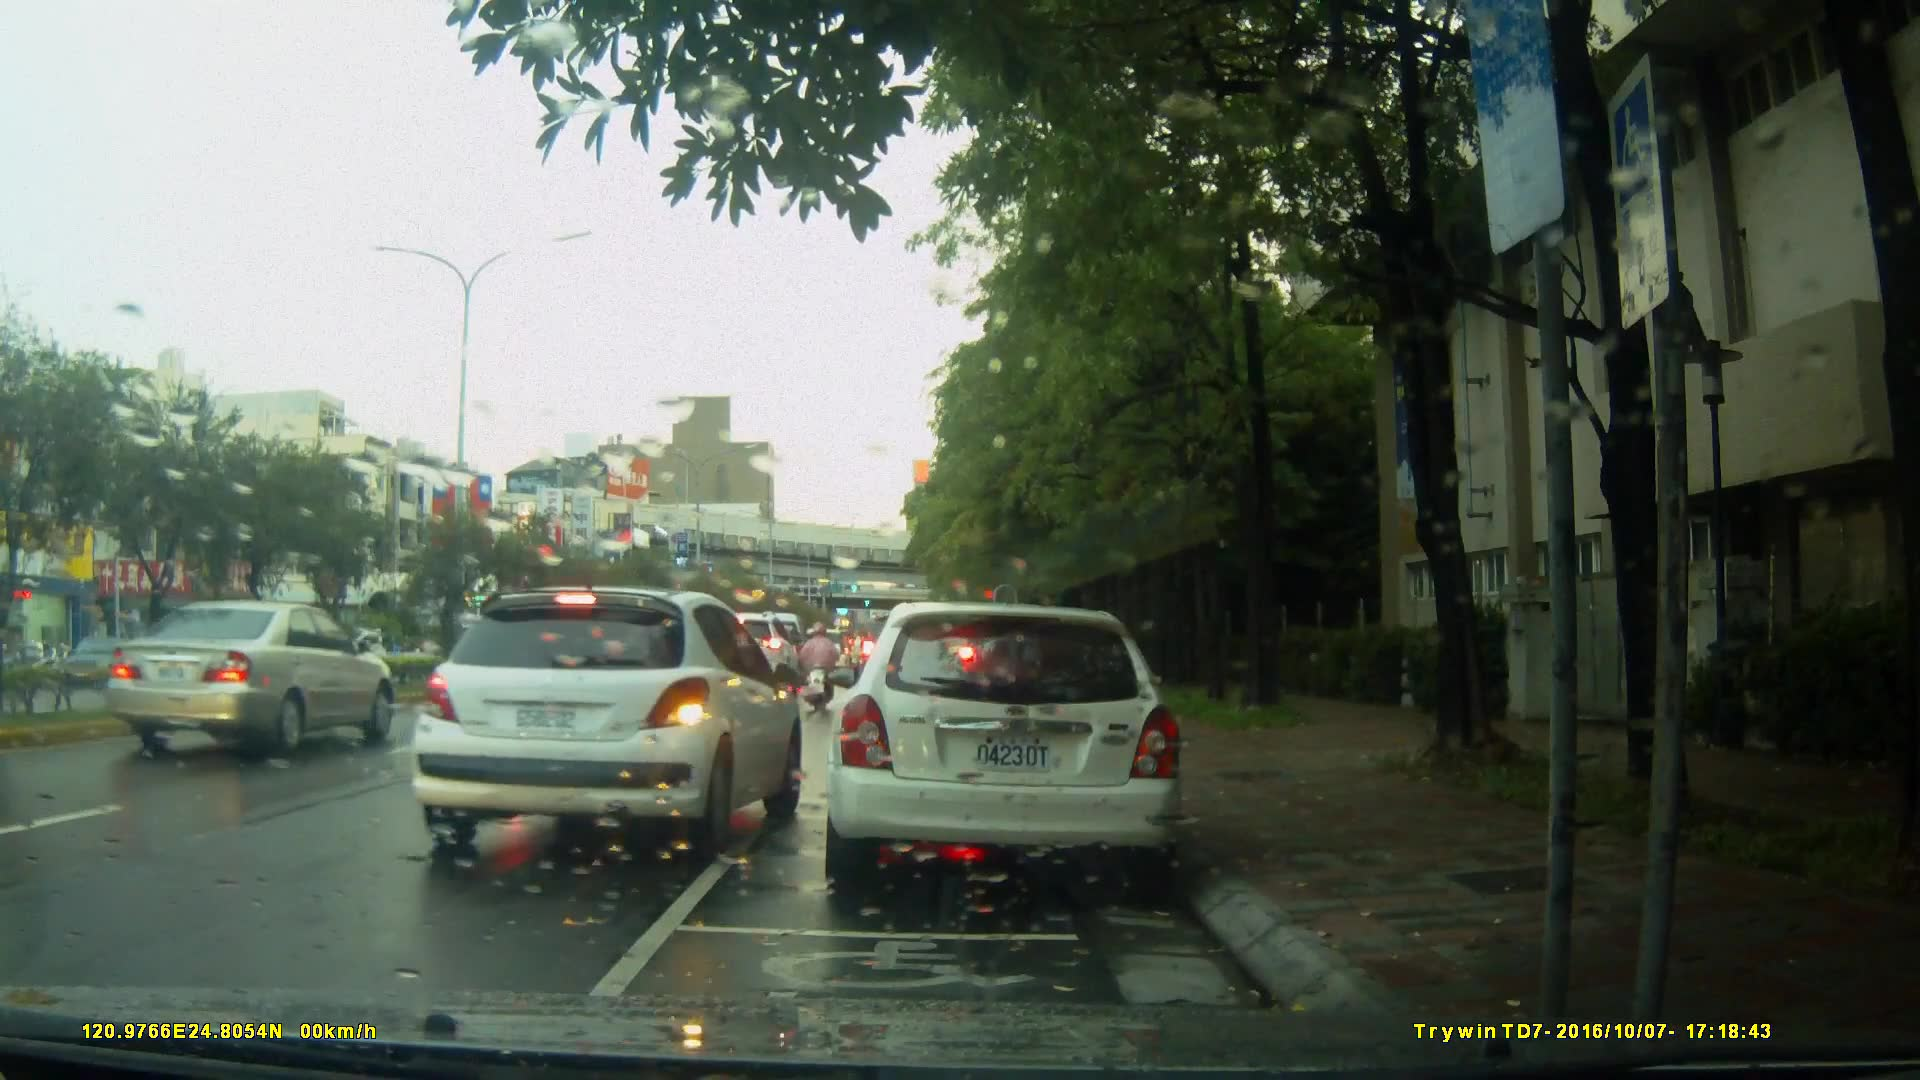rider: (800, 617, 837, 715)
vehicle: (404, 583, 813, 859), (820, 602, 1188, 898), (103, 599, 398, 758), (675, 611, 802, 707)
